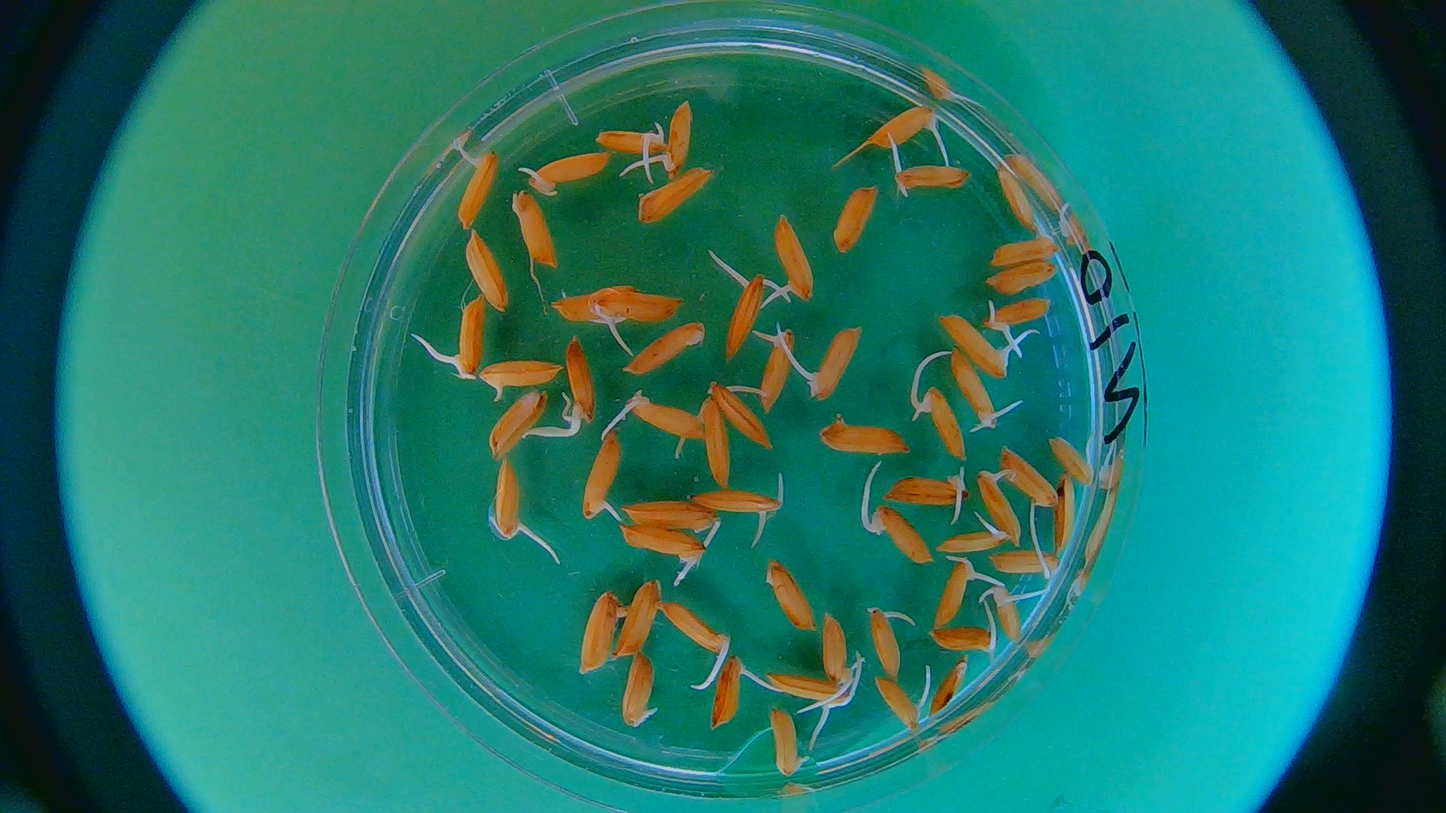no: (672, 396, 734, 492), (636, 166, 713, 229), (621, 320, 704, 376), (488, 388, 551, 459), (464, 226, 513, 313), (999, 446, 1060, 510), (615, 576, 664, 655), (579, 587, 623, 673), (765, 559, 815, 632), (510, 190, 557, 266), (816, 419, 905, 456), (833, 185, 880, 254), (993, 163, 1039, 231), (770, 707, 813, 776), (555, 279, 623, 321), (985, 261, 1060, 297), (929, 656, 967, 716), (991, 233, 1055, 266), (1054, 471, 1076, 555)
yes: (621, 501, 724, 550), (941, 314, 1014, 379), (949, 349, 1006, 430), (618, 523, 706, 575), (630, 101, 690, 175), (591, 127, 667, 182), (873, 101, 956, 151), (770, 213, 816, 300), (578, 431, 624, 518), (662, 600, 730, 658), (723, 270, 766, 358), (810, 325, 861, 399), (456, 151, 501, 234), (884, 475, 970, 518), (711, 383, 767, 449), (479, 360, 564, 403), (524, 150, 613, 191), (557, 336, 598, 422), (873, 670, 931, 730), (975, 469, 1020, 545), (618, 653, 663, 729), (490, 456, 530, 541), (596, 291, 683, 330), (875, 507, 933, 565), (765, 671, 856, 707), (690, 490, 783, 525), (633, 398, 705, 443), (448, 294, 485, 379), (934, 559, 977, 628), (762, 328, 796, 413), (926, 389, 966, 461), (711, 652, 746, 729), (822, 612, 859, 684), (865, 611, 904, 679), (985, 297, 1053, 334), (993, 585, 1036, 642), (894, 161, 969, 193), (1047, 435, 1095, 484), (990, 549, 1064, 579), (938, 528, 1009, 554), (929, 626, 996, 653)
